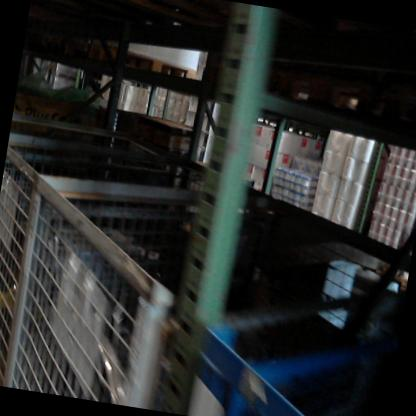pallet: (61, 36, 205, 86)
stillage: (0, 157, 405, 416), (0, 104, 221, 410), (175, 239, 403, 416)
